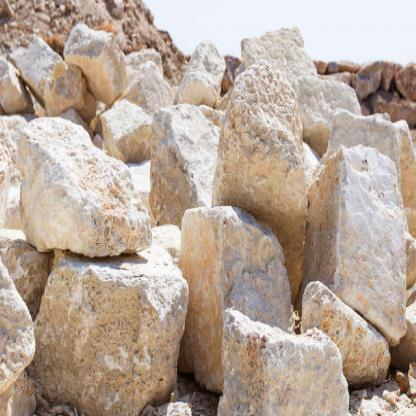Sedimentary_Limestone: (35, 244, 182, 401), (176, 199, 292, 395), (314, 140, 405, 352), (16, 120, 150, 260), (211, 64, 306, 221), (222, 302, 352, 415), (293, 281, 392, 398)
